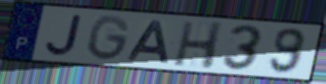3: (220, 24, 266, 72)
9: (268, 27, 308, 76)
A: (126, 20, 172, 65)
G: (86, 14, 132, 63)
H: (172, 20, 226, 71)
J: (45, 13, 85, 57)
